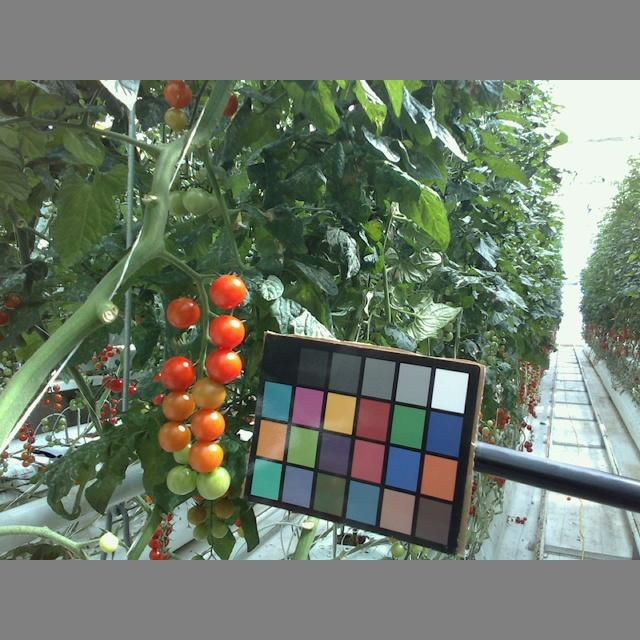green: (196, 466, 230, 502), (183, 184, 215, 218), (166, 464, 197, 497), (164, 107, 191, 132)
pink: (188, 441, 226, 474), (190, 409, 225, 443), (156, 421, 191, 453), (191, 379, 225, 410), (160, 390, 195, 418), (161, 81, 196, 109)
red: (160, 354, 195, 394), (209, 275, 248, 310), (165, 292, 201, 329), (207, 315, 245, 350), (204, 350, 242, 381)
